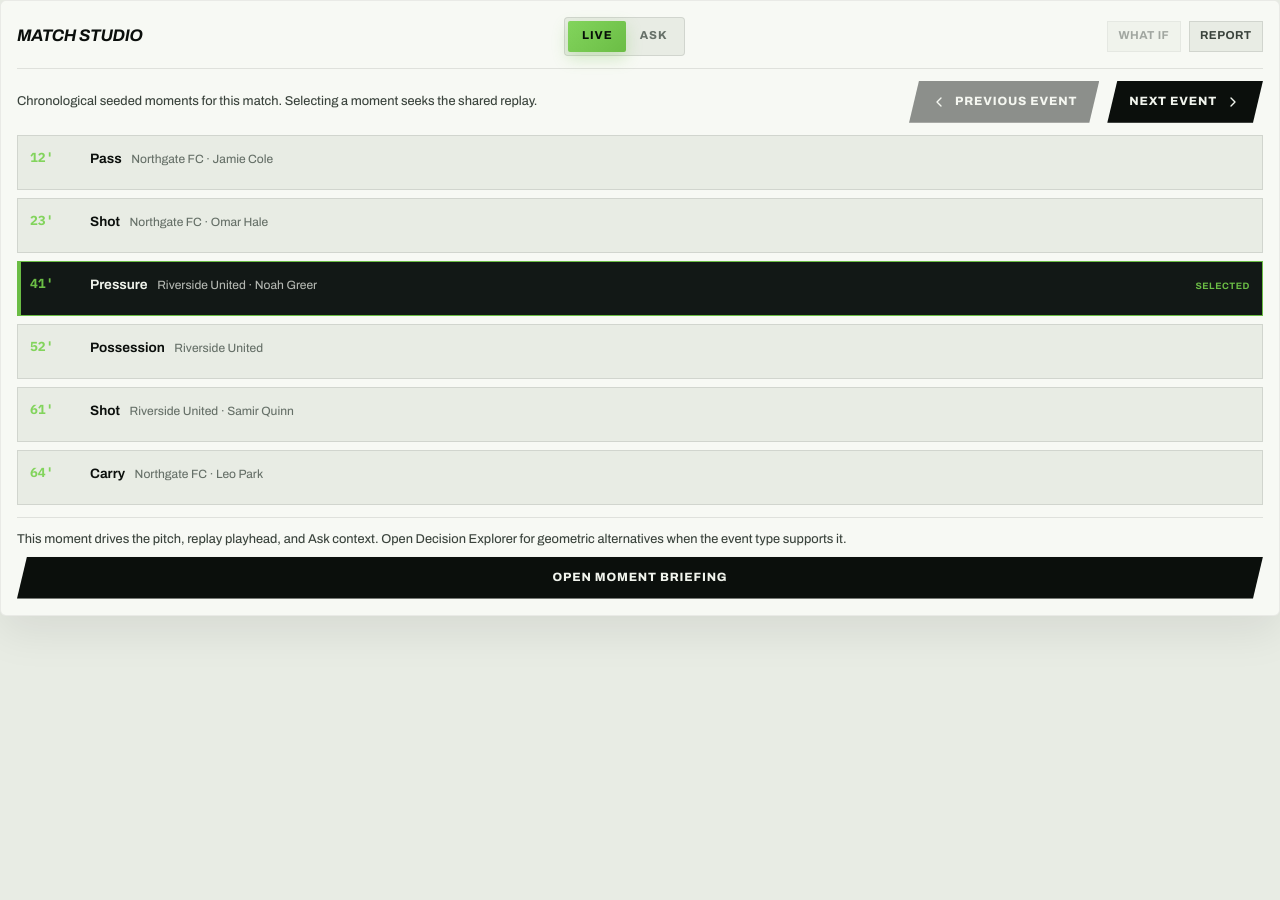
Test case: MatchStudioPanel ASK with non-decision selection › marks narrative suggestions unavailable for pressure events
Click the tab "Ask" at (654, 36), box [626, 21, 681, 52]
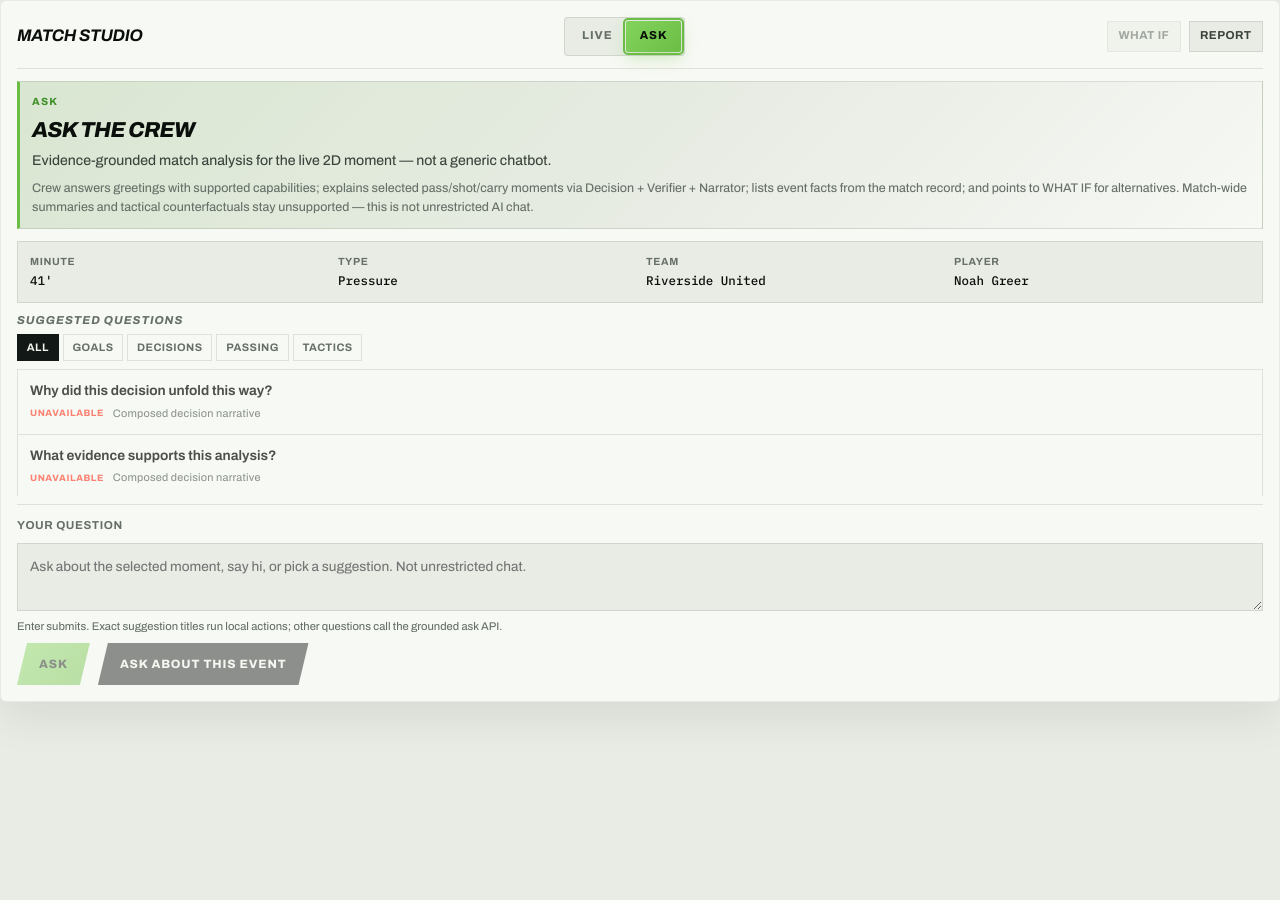
Click the button with test id "ask-suggestion-explain-decision" at (151, 391), box [18, 370, 1262, 434]
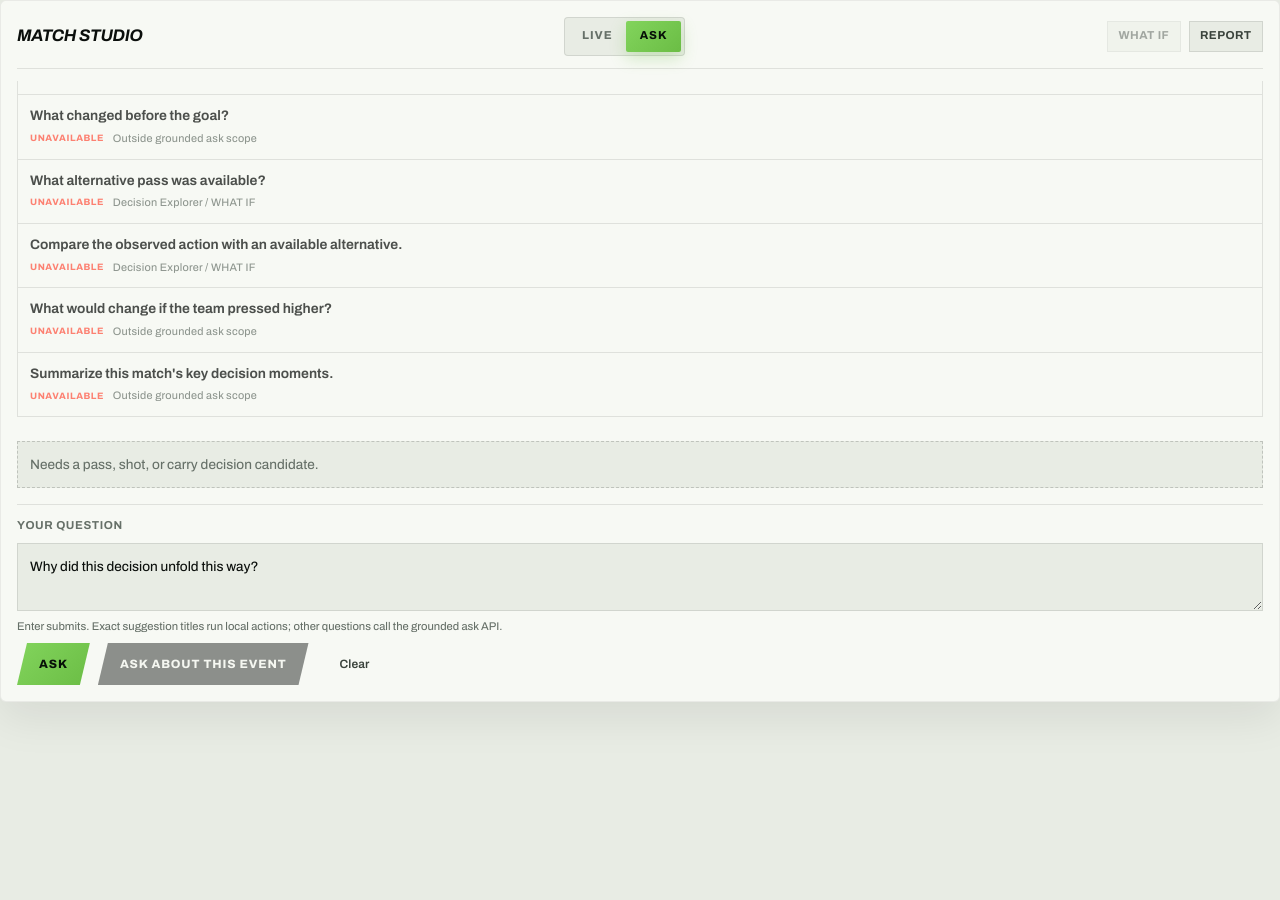
Expected: the message "Needs a pass, shot, or carry decision candidate." is shown, [17, 441, 1263, 488]
